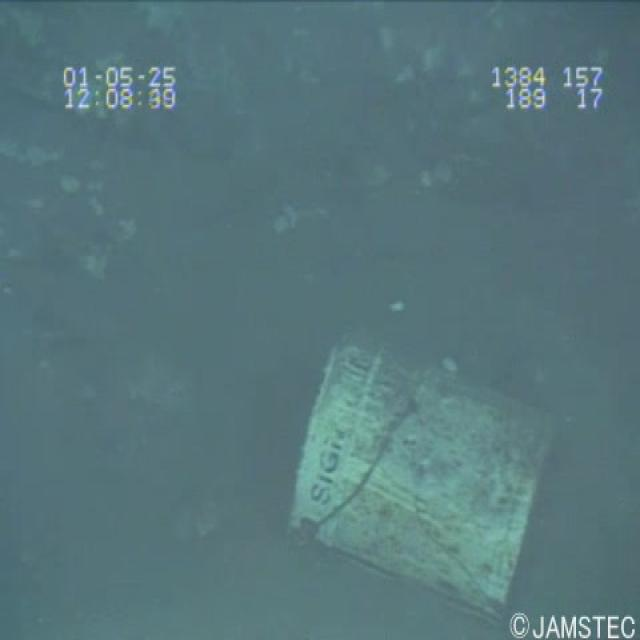plastic: (284, 323, 576, 628)
